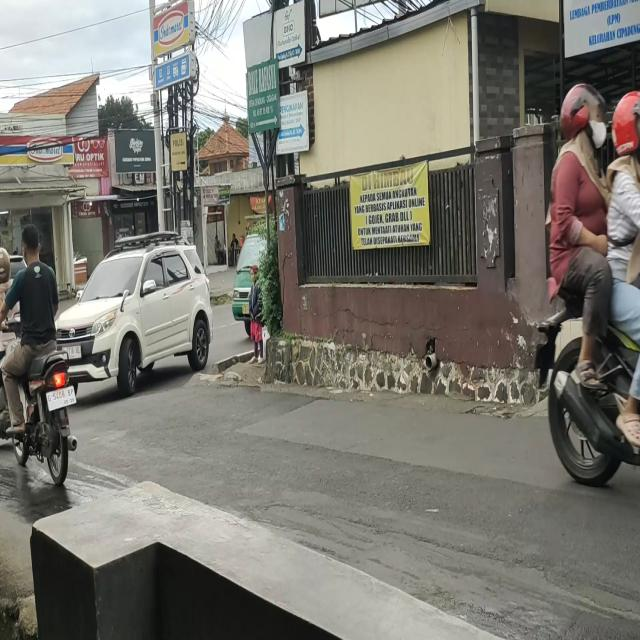helmet: (557, 80, 609, 156), (612, 84, 640, 147)
no-helmet: (22, 224, 44, 265)
